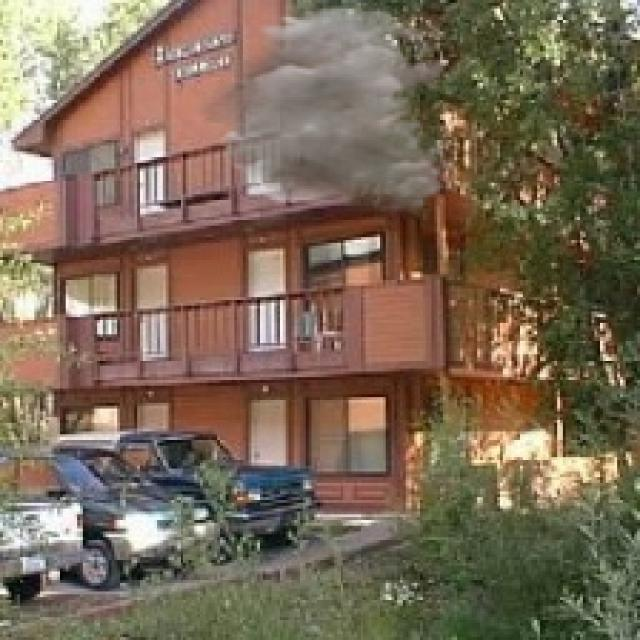smoke: (189, 6, 454, 214)
